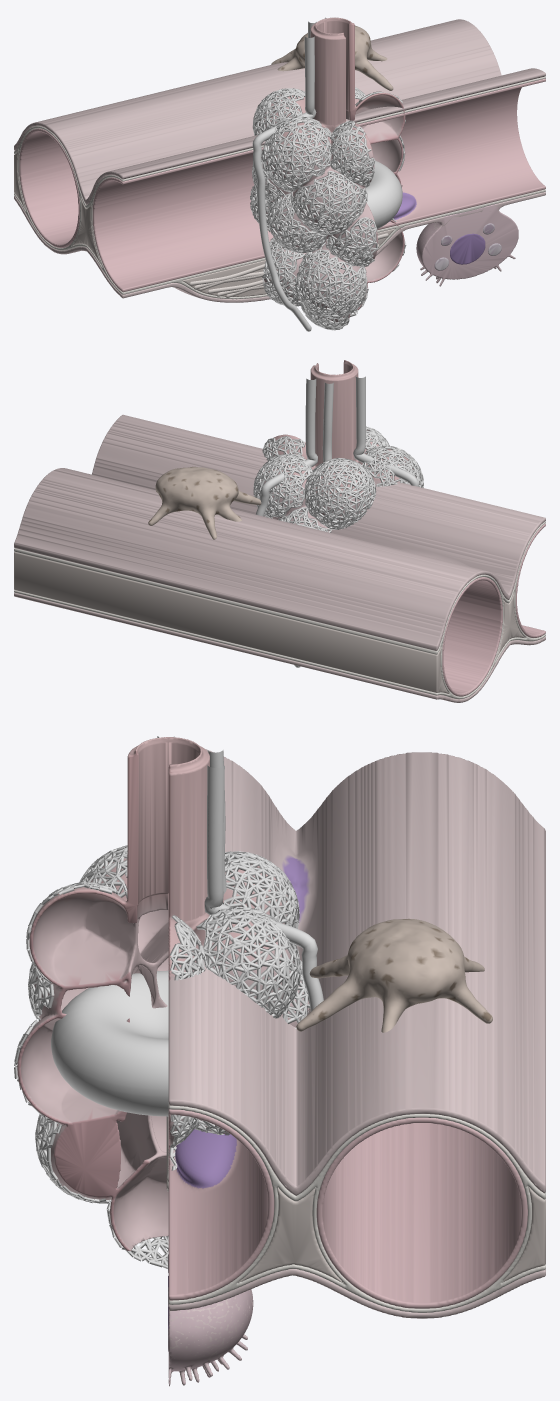
The model's file is alveoli.glb.
3 renders of one model, top to bottom at view 1: azimuth 30°, elevation 25°; view 2: azimuth 150°, elevation 25°; view 3: azimuth 270°, elevation 25°, orthographic. The views are drawn at different scales.
Visible parts, largest first — view 1: septumEndothelium, septumEpithelium, capillaries, acinus, septumTypeTwo, septumBasement, septumInterstitium, vessels, rbc, septumMacrophage; view 2: septumEpithelium, septumInterstitium, capillaries, septumEndothelium, acinus, septumBasement, septumMacrophage, vessels; view 3: septumEpithelium, septumEndothelium, acinus, capillaries, rbc, septumMacrophage, septumBasement, septumInterstitium, septumTypeTwo, vessels.
Part boxes in pixels (bbox=[...]): septumEndothelium: bbox=[19, 78, 545, 292]; septumEpithelium: bbox=[14, 19, 545, 302]; capillaries: bbox=[250, 87, 406, 330]; acinus: bbox=[253, 17, 405, 322]; septumTypeTwo: bbox=[416, 204, 518, 286]; septumBasement: bbox=[14, 76, 545, 299]; septumInterstitium: bbox=[14, 150, 394, 297]; vessels: bbox=[252, 17, 325, 331]; rbc: bbox=[267, 160, 402, 236]; septumMacrophage: bbox=[271, 25, 393, 90]; septumEpithelium: bbox=[14, 414, 545, 702]; septumInterstitium: bbox=[14, 552, 525, 693]; capillaries: bbox=[253, 426, 423, 532]; septumEndothelium: bbox=[442, 523, 545, 696]; acinus: bbox=[259, 360, 415, 531]; septumBasement: bbox=[14, 521, 545, 699]; septumMacrophage: bbox=[148, 466, 261, 539]; vessels: bbox=[256, 376, 418, 667]; septumEpithelium: bbox=[168, 749, 545, 1385]; septumEndothelium: bbox=[168, 1108, 527, 1308]; acinus: bbox=[17, 737, 309, 1251]; capillaries: bbox=[14, 845, 310, 1269]; rbc: bbox=[51, 970, 168, 1116]; septumMacrophage: bbox=[296, 918, 492, 1032]; septumBasement: bbox=[168, 1103, 545, 1312]; septumInterstitium: bbox=[166, 1116, 545, 1284]; septumTypeTwo: bbox=[168, 1254, 253, 1386]; vessels: bbox=[157, 736, 323, 1011].
Size of the model in its own units: 28 by 19.08 by 17.63.
